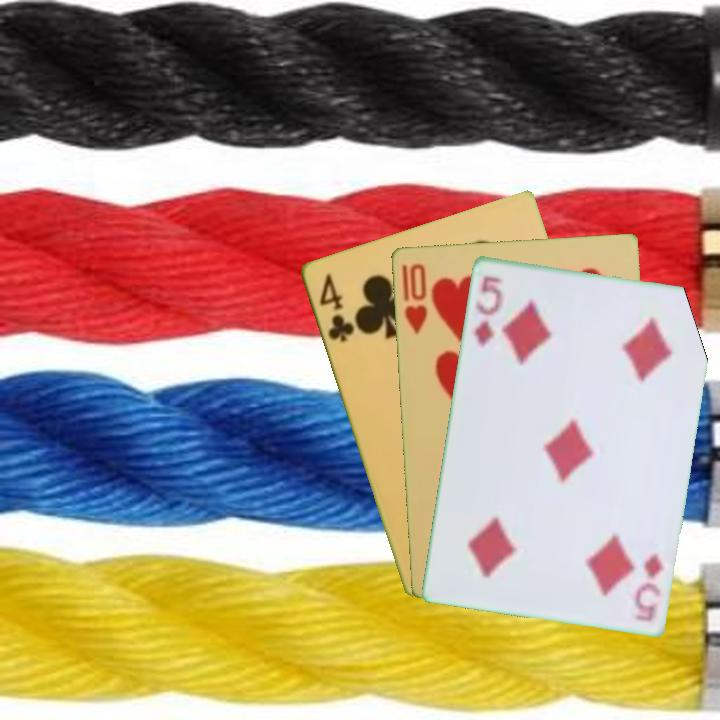10h: (400, 259, 429, 336)
4c: (315, 269, 357, 345)
5d: (470, 271, 505, 350), (631, 550, 666, 624)
